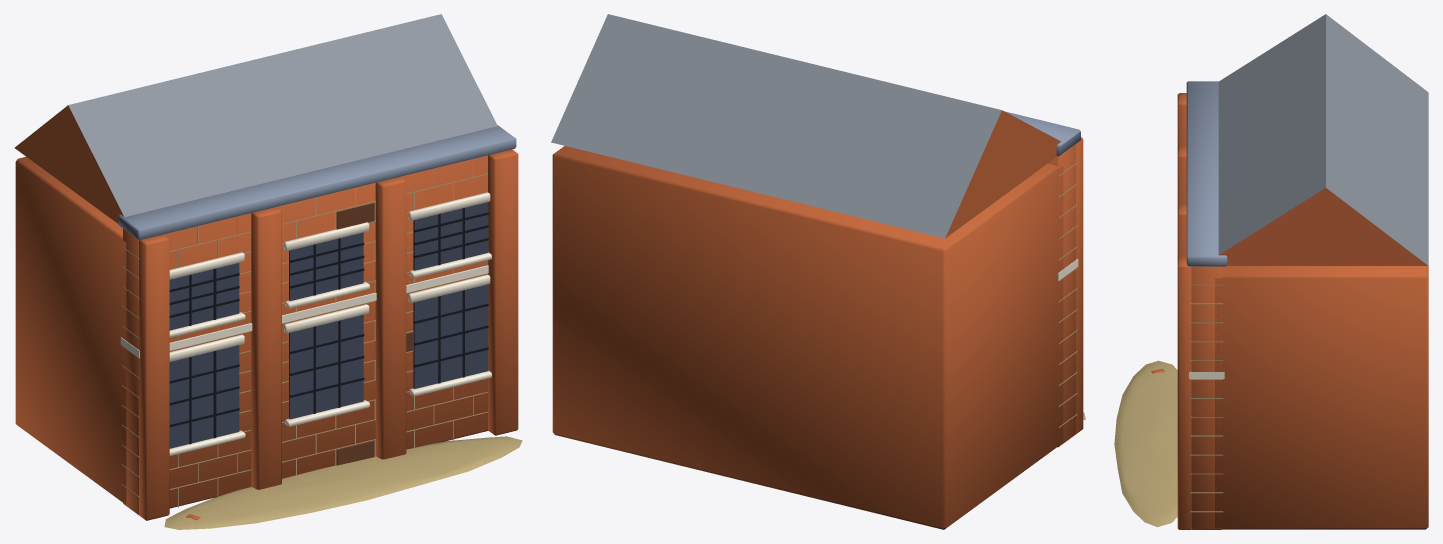
Rendered from FactoryWallA.fbx.
3 renders of one model, left to right at view 1: azimuth 30°, elevation 25°; view 2: azimuth 150°, elevation 25°; view 3: azimuth 270°, elevation 25°, orthographic. The views are drawn at different scales.
Parts seen in each view (by area): view 1: FactoryWallA; view 2: FactoryWallA; view 3: FactoryWallA.
Part boxes in pixels (bbox=[...]): FactoryWallA: bbox=[14, 14, 522, 529]; FactoryWallA: bbox=[551, 14, 1085, 529]; FactoryWallA: bbox=[1114, 14, 1428, 529].
Size of the model in its own units: 7.7 by 7 by 5.81.
Materials: 1 (1 with a texture image).
